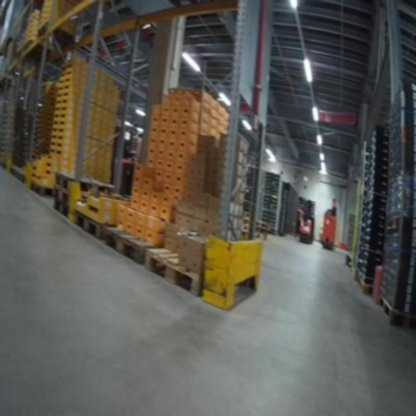pallets: (54, 165, 219, 306), (354, 265, 416, 333), (1, 153, 56, 209), (229, 208, 277, 249), (260, 172, 286, 238)
